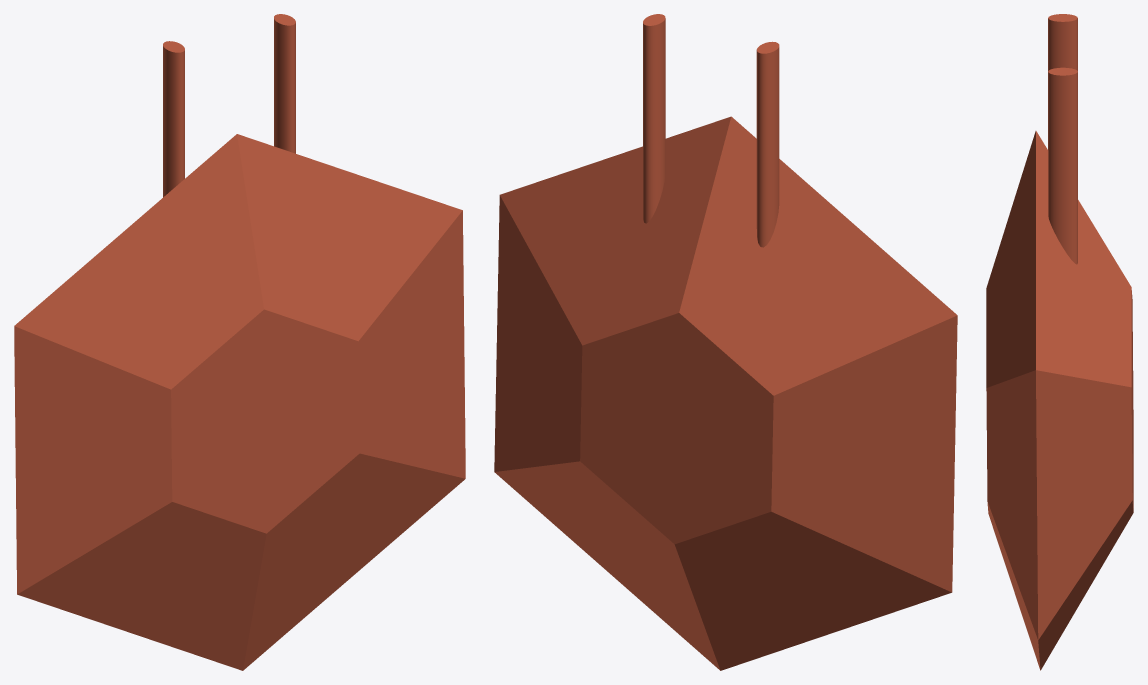
File: Monster.fbx
3 renders of one model, left to right at view 1: azimuth 30°, elevation 25°; view 2: azimuth 150°, elevation 25°; view 3: azimuth 270°, elevation 25°, orthographic. The views are drawn at different scales.
Parts seen in each view (by area): view 1: pPrism1, pasted__pCylinder1, pasted__pasted__pCylinder1; view 2: pPrism1, pasted__pCylinder1, pasted__pasted__pCylinder1; view 3: pPrism1, pasted__pasted__pCylinder1, pasted__pCylinder1.
Part boxes in pixels (x1,y1,x2,y2): pPrism1: [14, 134, 465, 670]; pasted__pCylinder1: [163, 41, 184, 197]; pasted__pasted__pCylinder1: [274, 14, 295, 153]; pPrism1: [494, 116, 957, 670]; pasted__pCylinder1: [756, 41, 779, 247]; pasted__pasted__pCylinder1: [643, 14, 665, 223]; pPrism1: [986, 131, 1133, 670]; pasted__pasted__pCylinder1: [1048, 67, 1077, 264]; pasted__pCylinder1: [1048, 14, 1077, 149].
Size of the model in its own units: 4.18 by 5.58 by 1.19.
